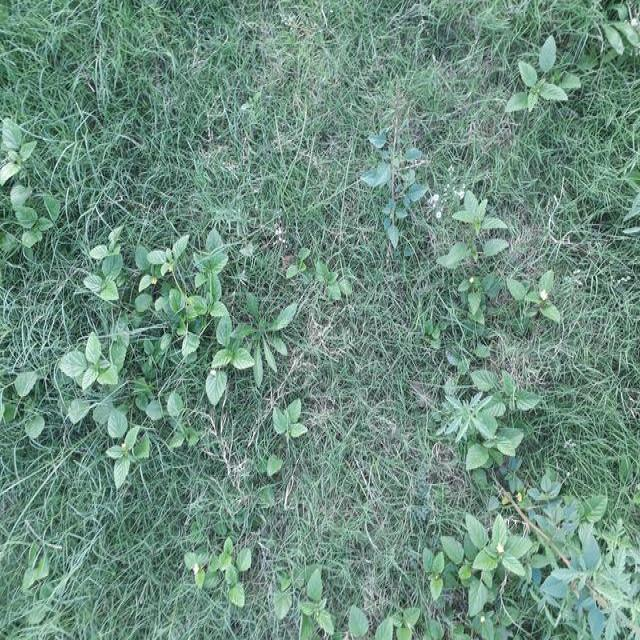weed: (14, 8, 248, 225), (288, 267, 436, 536), (6, 460, 193, 640), (148, 240, 278, 402), (544, 286, 640, 490), (0, 278, 85, 490), (272, 38, 368, 224), (544, 487, 640, 640), (456, 183, 554, 332), (383, 20, 504, 140), (66, 314, 159, 461), (292, 563, 456, 640), (439, 364, 526, 476), (558, 128, 640, 244), (360, 138, 427, 257), (467, 522, 552, 611), (0, 127, 49, 248), (70, 239, 147, 316), (186, 525, 250, 608), (514, 36, 575, 116), (267, 395, 304, 484)
